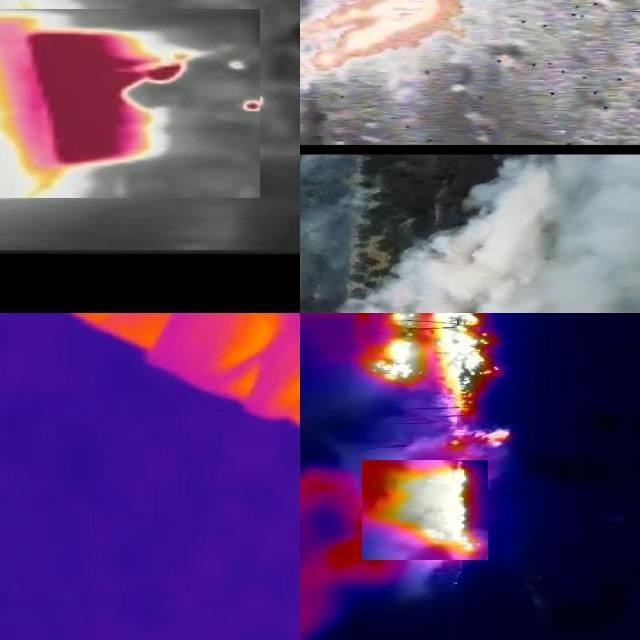fire: (1, 10, 260, 199), (356, 314, 516, 448), (301, 1, 469, 86), (362, 461, 488, 561)
